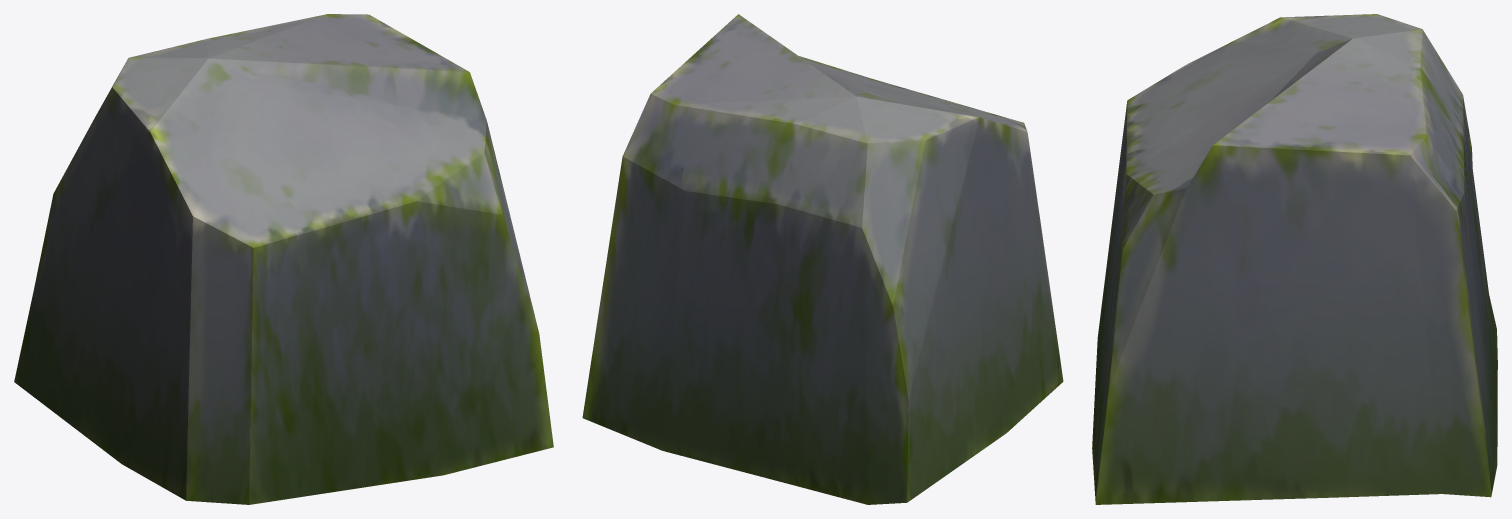
The model's file is gem.glb.
3 renders of one model, left to right at view 1: azimuth 30°, elevation 25°; view 2: azimuth 150°, elevation 25°; view 3: azimuth 270°, elevation 25°, orthographic. The views are drawn at different scales.
Visible parts, largest first — view 1: Pebble_Square_2; view 2: Pebble_Square_2; view 3: Pebble_Square_2.
Part boxes in pixels (x1,y1,x2,y2): Pebble_Square_2: (14,14,553,504); Pebble_Square_2: (582,14,1063,504); Pebble_Square_2: (1092,14,1497,504).
Bounding box in the file's own units: 1 × 1 × 1.
1 material, 1 textured.
